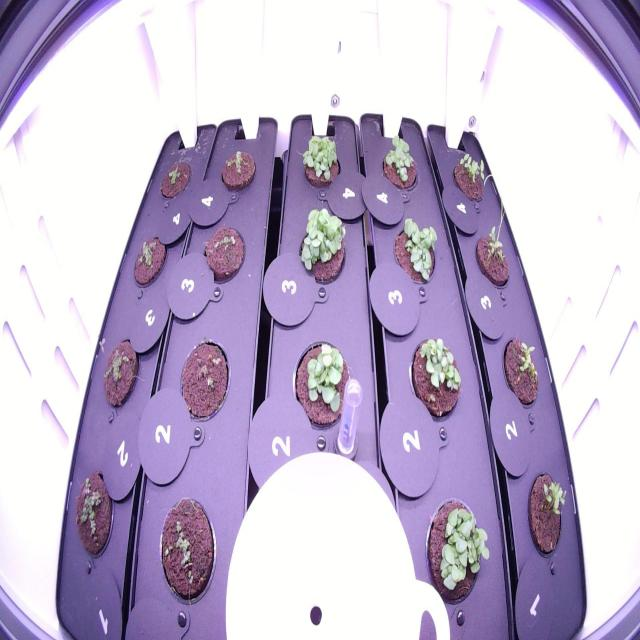germination: (156, 491, 220, 612), (176, 333, 236, 428), (464, 194, 516, 300), (526, 462, 572, 573), (72, 463, 118, 569), (498, 327, 542, 420), (194, 218, 249, 290), (100, 332, 142, 413), (446, 143, 494, 208), (214, 142, 262, 201), (129, 230, 169, 294), (155, 155, 193, 206)
